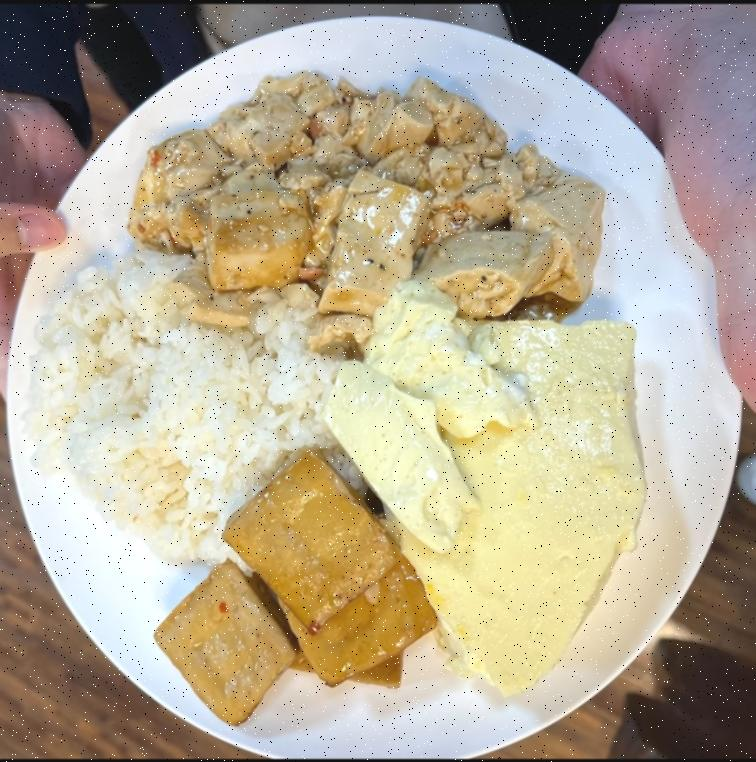big fried chicken leg: (9, 3, 743, 757)
braised fish fillet: (322, 290, 654, 702), (135, 71, 606, 329), (25, 248, 332, 560), (141, 453, 426, 734)
